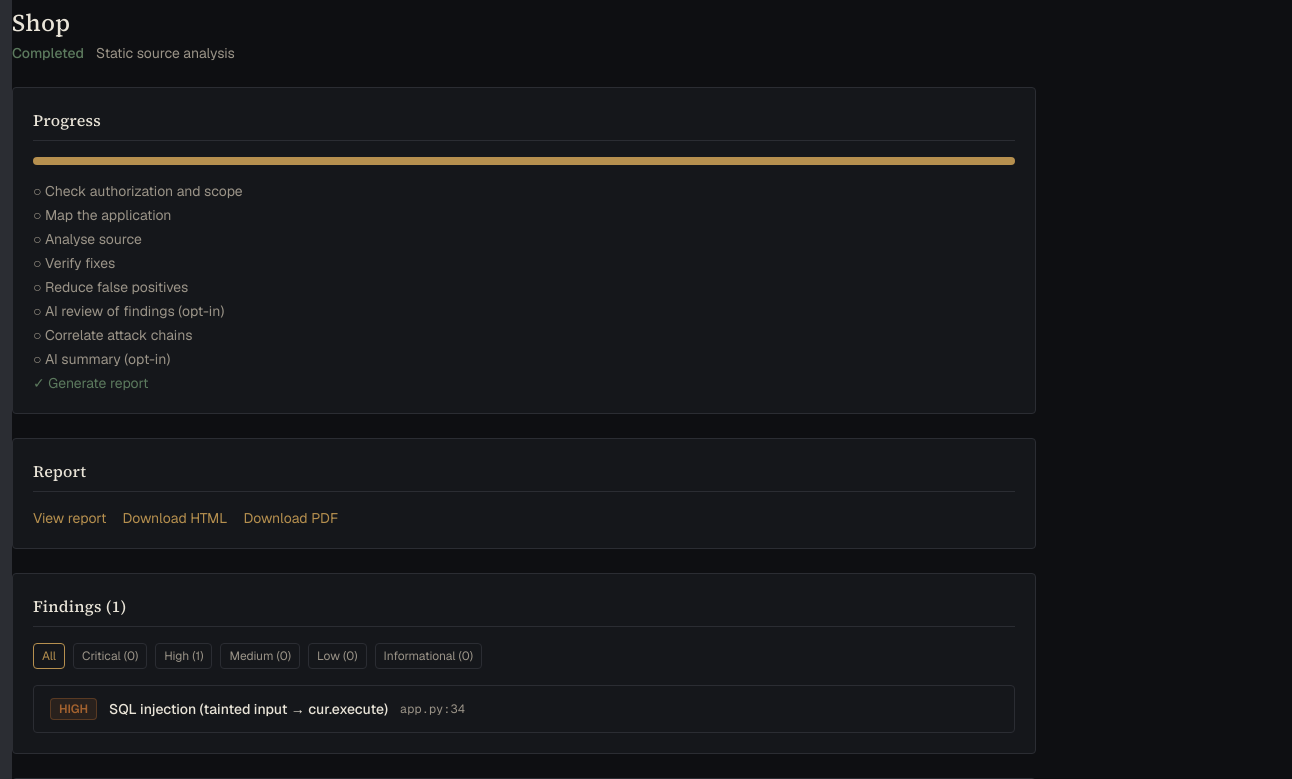
it: AuditDetailPage › fetches a suggested fix on demand and shows an honest message when none exists
The width and height of the screenshot is (1292, 779).
Click the text "SQL injection (tainted input → cur.execute)": (249, 709) [109,699,388,719]
(page scrolled)
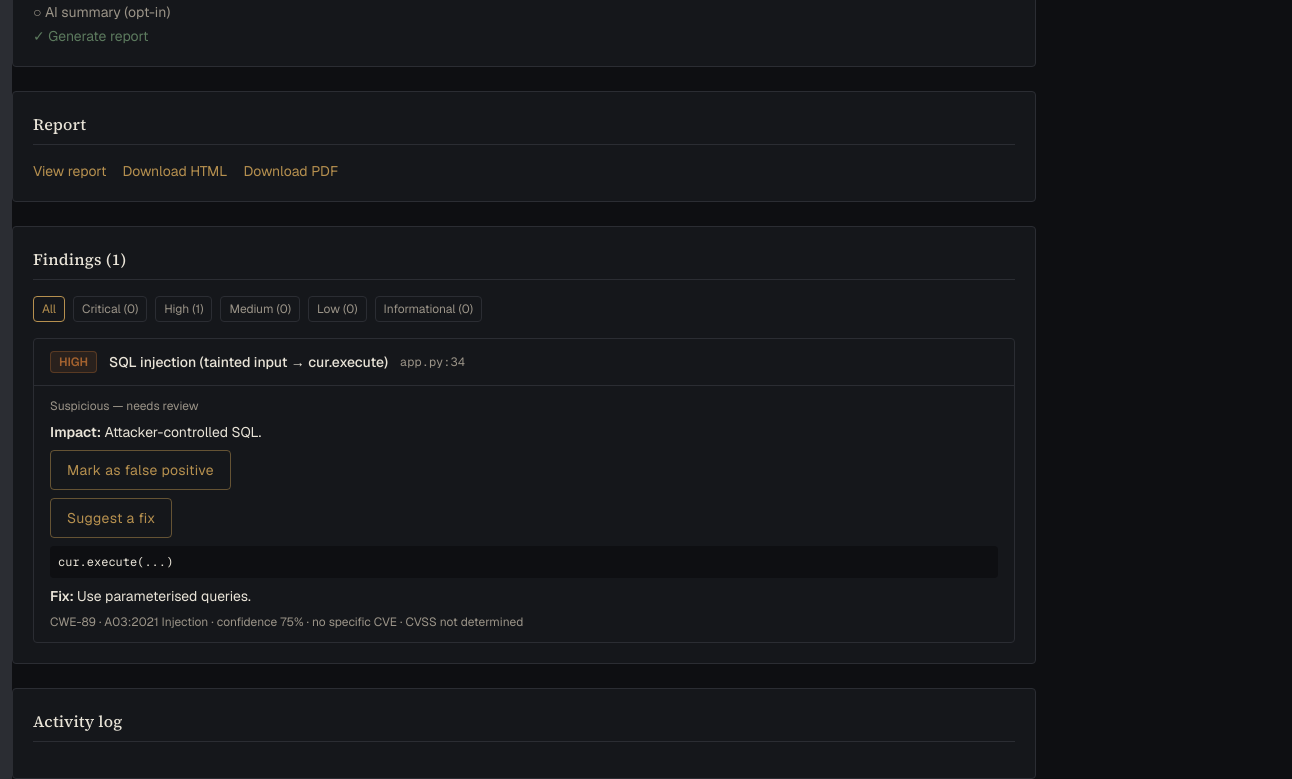
Click the button "Suggest a fix": (111, 518) [50,498,172,538]
(page scrolled)
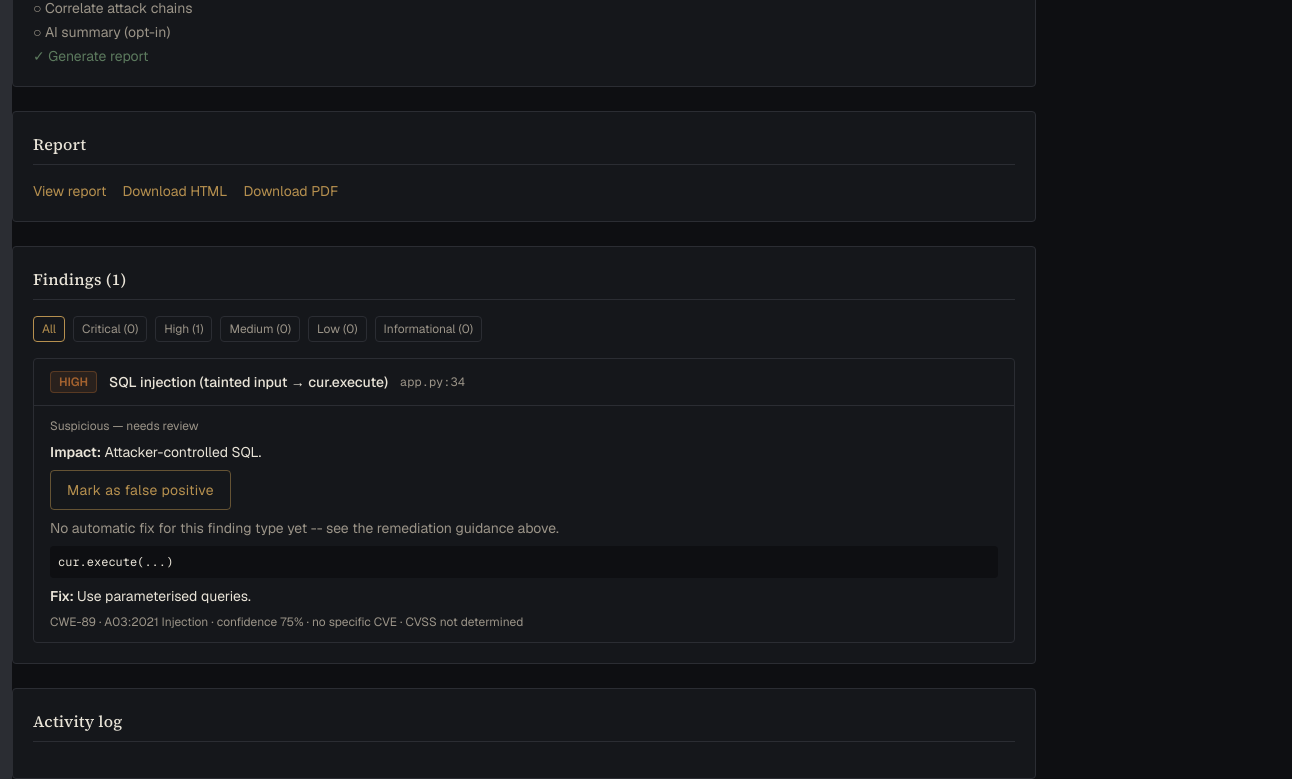
Now the text "No automatic fix for this finding type yet" is shown, box [50,519,559,537]
